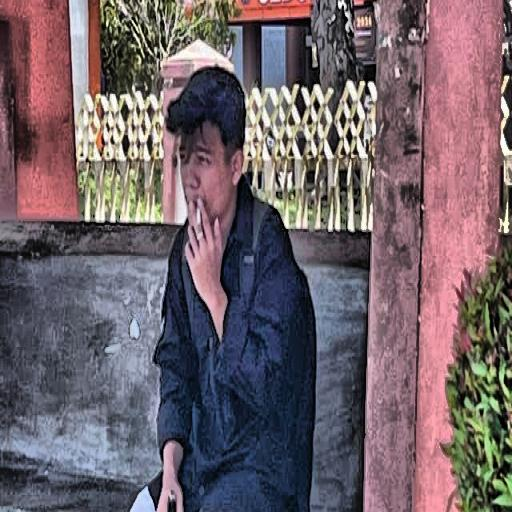Asbak: (195, 209, 201, 235)
Merokok: (178, 122, 242, 333)
